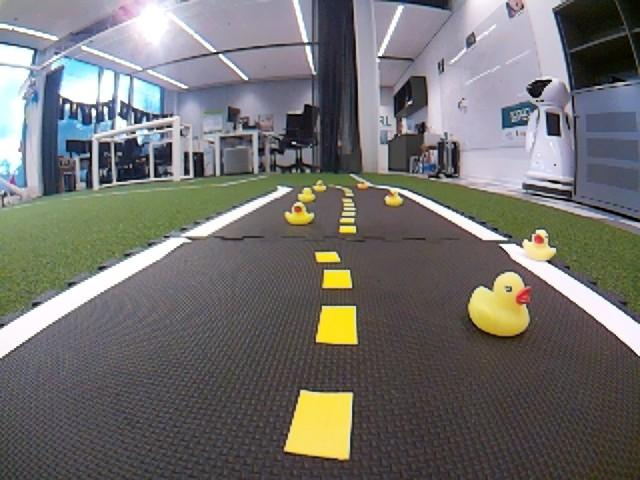Duckies: (468, 273, 532, 337), (521, 229, 556, 260), (283, 203, 313, 224), (384, 191, 403, 206), (298, 189, 317, 202), (313, 183, 325, 191), (357, 182, 367, 190), (313, 180, 323, 187)
